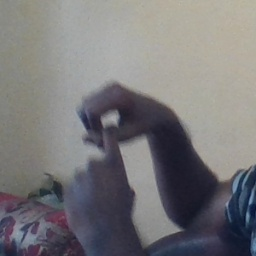Q: (67, 77, 160, 209)
